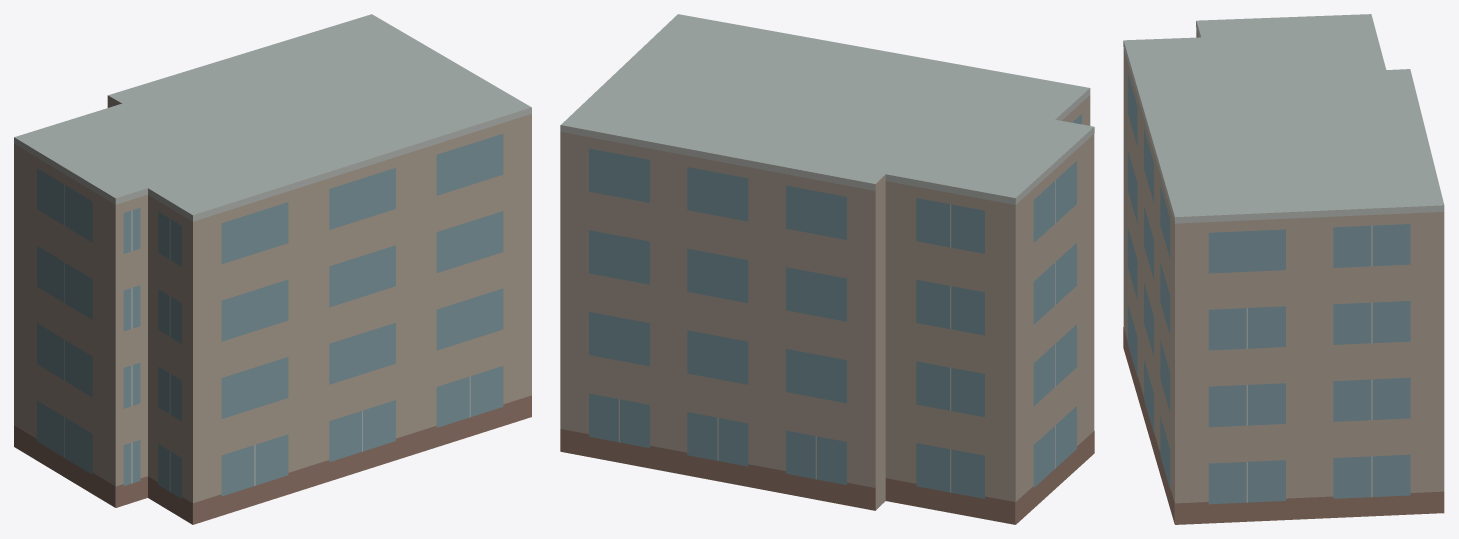
The model's file is survey-upis-32782038.glb.
The picture shows the model from 3 angles, left to right: view 1: azimuth 30°, elevation 25°; view 2: azimuth 150°, elevation 25°; view 3: azimuth 270°, elevation 25°; orthographic projection. The views are drawn at different scales.
Visible parts, largest first — view 1: survey-upis-32782038.tmp; view 2: survey-upis-32782038.tmp; view 3: survey-upis-32782038.tmp.
Part boxes in pixels (x1,y1,x2,y2): survey-upis-32782038.tmp: (14,14,531,524); survey-upis-32782038.tmp: (560,14,1094,524); survey-upis-32782038.tmp: (1123,14,1444,524).
Size of the model in its own units: 16.58 by 11.7 by 11.07.
